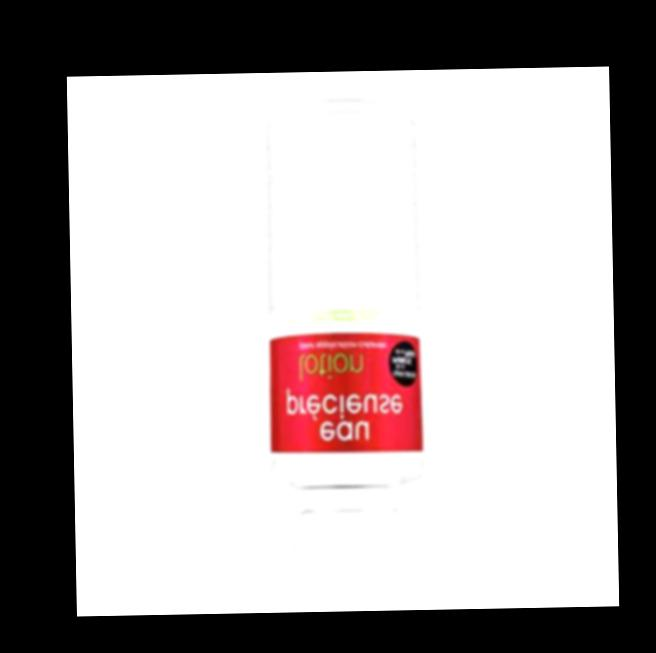cosmetic: (263, 117, 424, 573)
